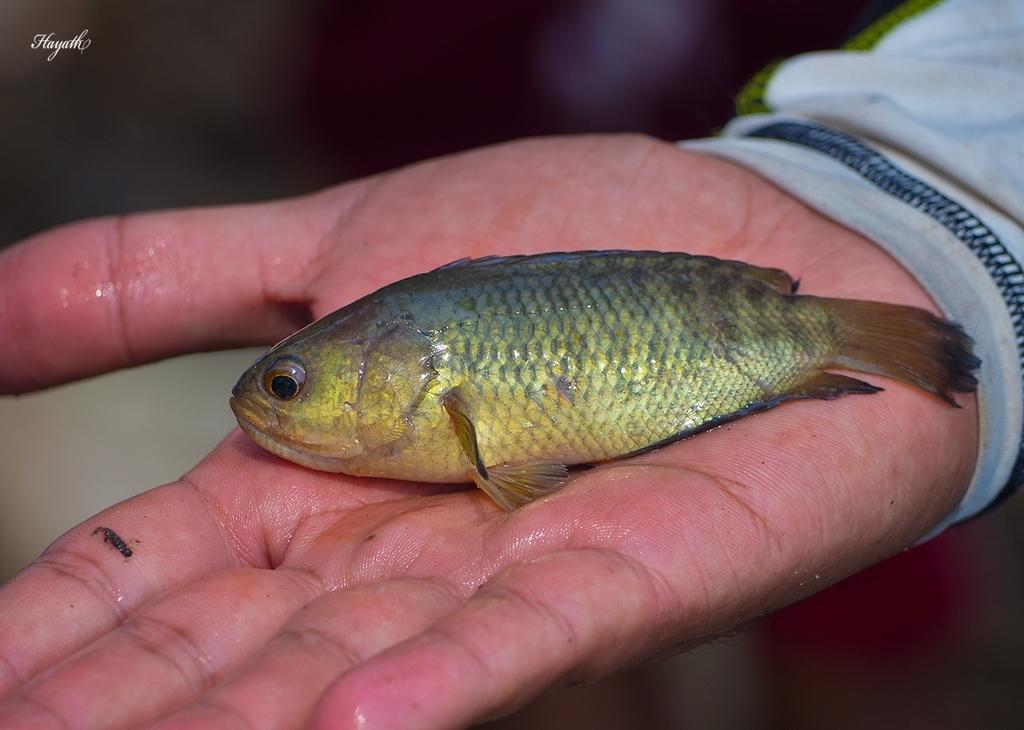Climbing Perch: (231, 246, 980, 514)
